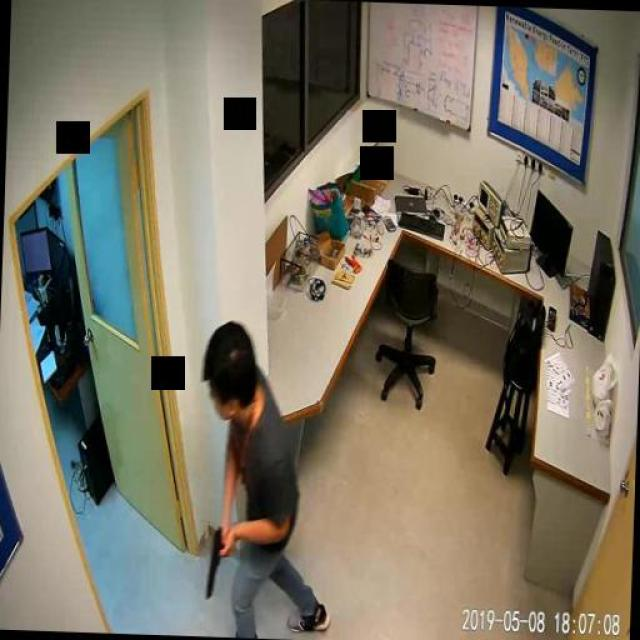gun: (205, 520, 230, 598)
